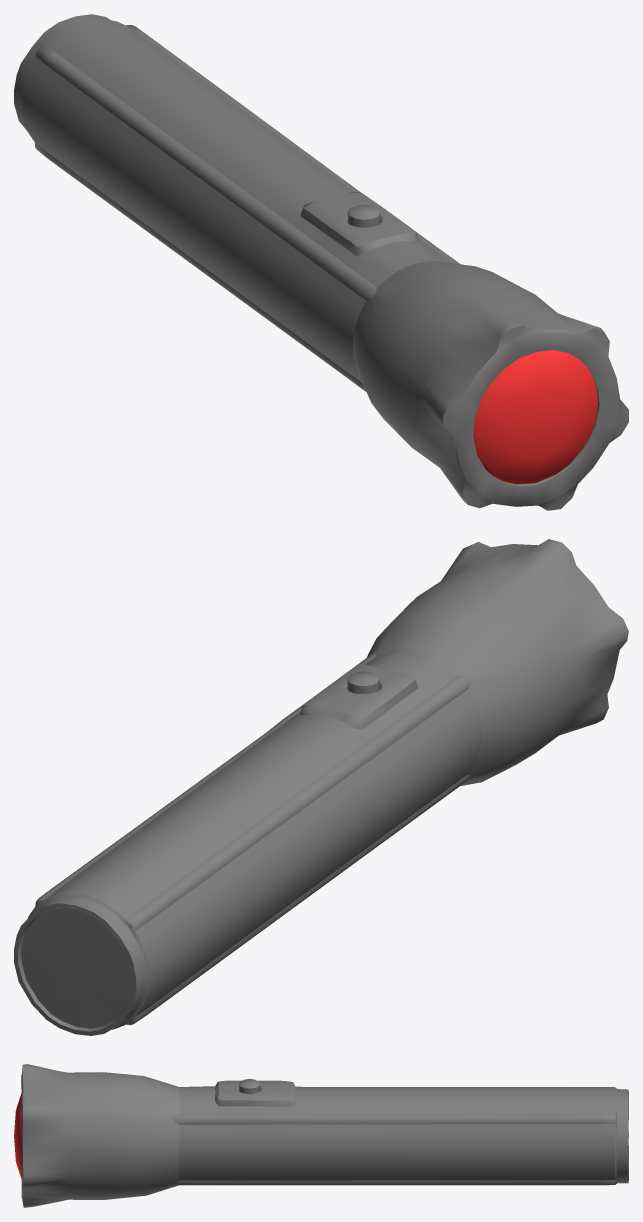
The model's file is Flashlight_glass_part.fbx.
3 views of the same model, one above another, from view 1: azimuth 30°, elevation 25°; view 2: azimuth 150°, elevation 25°; view 3: azimuth 270°, elevation 25° (orthographic). The views are drawn at different scales.
Parts seen in each view (by area): view 1: Flashlight; view 2: Flashlight; view 3: Flashlight.
Part boxes in pixels (x1=…): Flashlight: x1=14, y1=14, x2=628, y2=510; Flashlight: x1=14, y1=539, x2=628, y2=1035; Flashlight: x1=14, y1=1064, x2=628, y2=1207.
Bounding box in the file's own units: 14.28 × 14.26 × 62.22.
